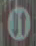Two way: (3, 4, 34, 45)
